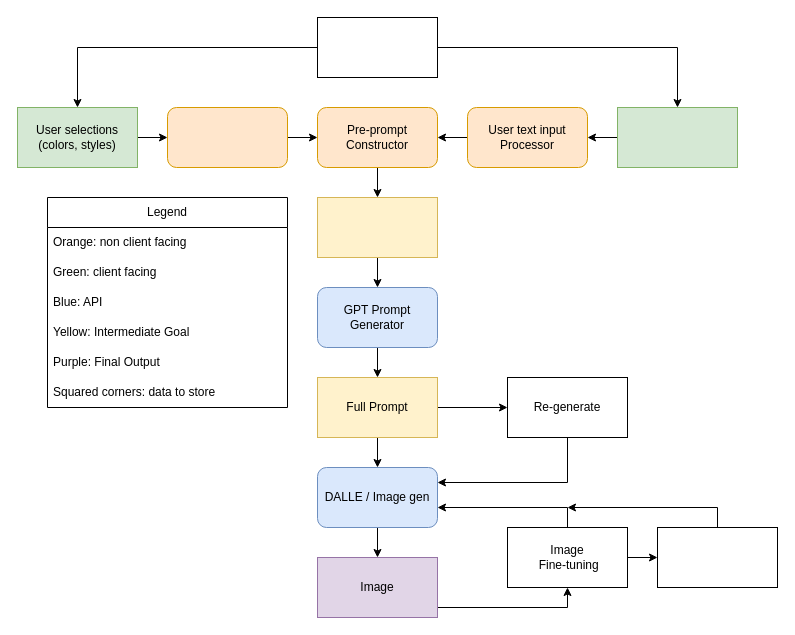
Image size: 795x635. Some labels were removed from this diagram. Here are the shapes that lost their labels. From the top down, the box of each, then its label:
(316, 16, 438, 78): NEW JOURNEY
(166, 106, 288, 168): User Selection Processor
(616, 106, 738, 168): User text input (keywords, phrases)
(316, 196, 438, 258): Full Pre-prompt
(656, 526, 778, 588): Additional Options
